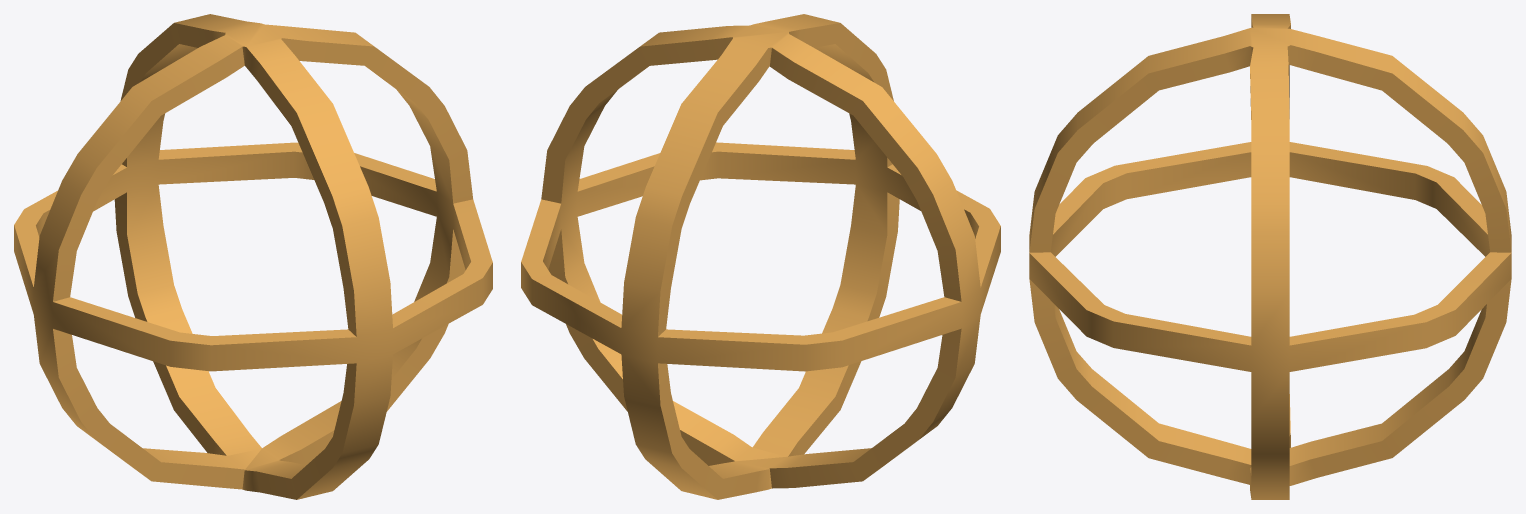
File: SphereMesh_03.fbx
3 renders of one model, left to right at view 1: azimuth 30°, elevation 25°; view 2: azimuth 150°, elevation 25°; view 3: azimuth 270°, elevation 25°, orthographic.
Parts seen in each view (by area): view 1: SphereMesh_03; view 2: SphereMesh_03; view 3: SphereMesh_03.
Boxes of the visible parts, x1=… form: SphereMesh_03: x1=14, y1=14, x2=492, y2=499; SphereMesh_03: x1=521, y1=14, x2=1000, y2=499; SphereMesh_03: x1=1029, y1=14, x2=1511, y2=499.
Size of the model in its own units: 335 by 338 by 335.
